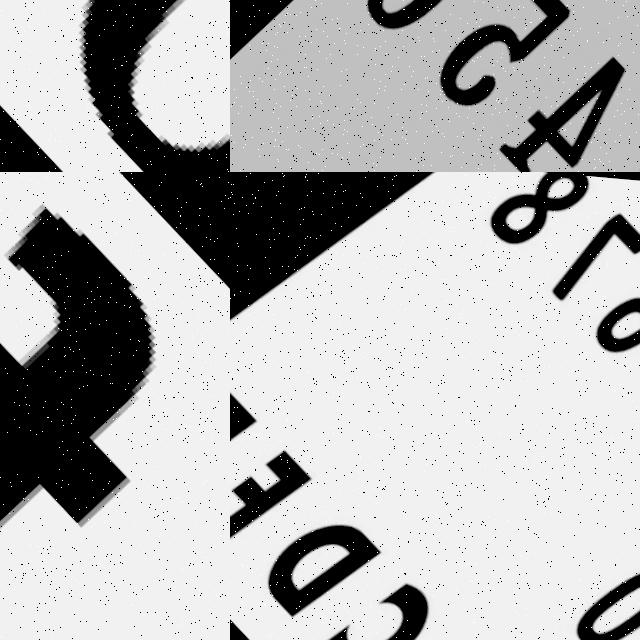0: (0, 0, 230, 172), (552, 517, 640, 640)
3: (554, 88, 640, 172)
4: (474, 10, 640, 172)
5: (406, 0, 614, 129)
6: (557, 218, 640, 395), (329, 0, 537, 66)
7: (503, 172, 640, 342)
8: (451, 172, 633, 294)
F: (0, 172, 230, 640)
